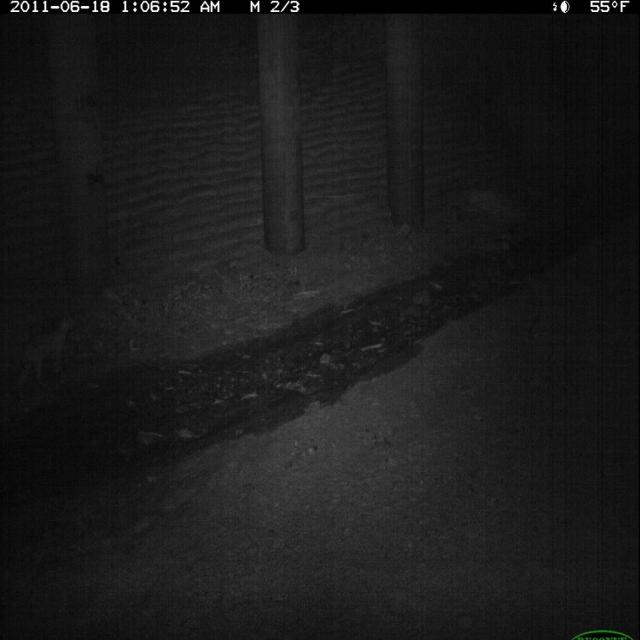bobcat: (11, 308, 78, 395)
